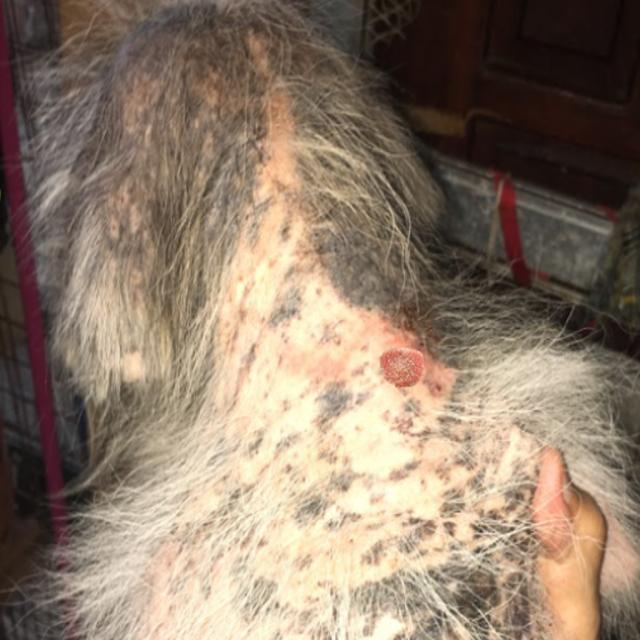ringworm: (375, 338, 430, 392)
